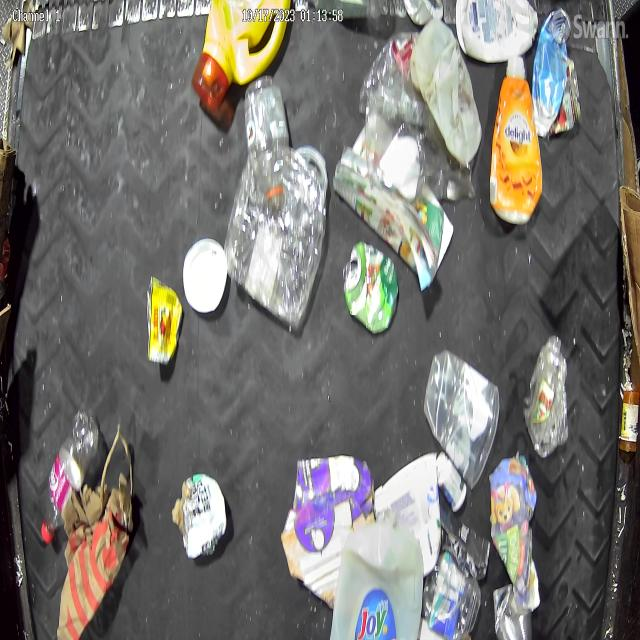can: (341, 241, 400, 335), (178, 477, 227, 558), (146, 274, 183, 364)
milk_jug: (330, 524, 424, 640), (412, 19, 483, 168)
non_white_jug: (192, 0, 290, 109)
plastic_bottle: (40, 410, 100, 544)
